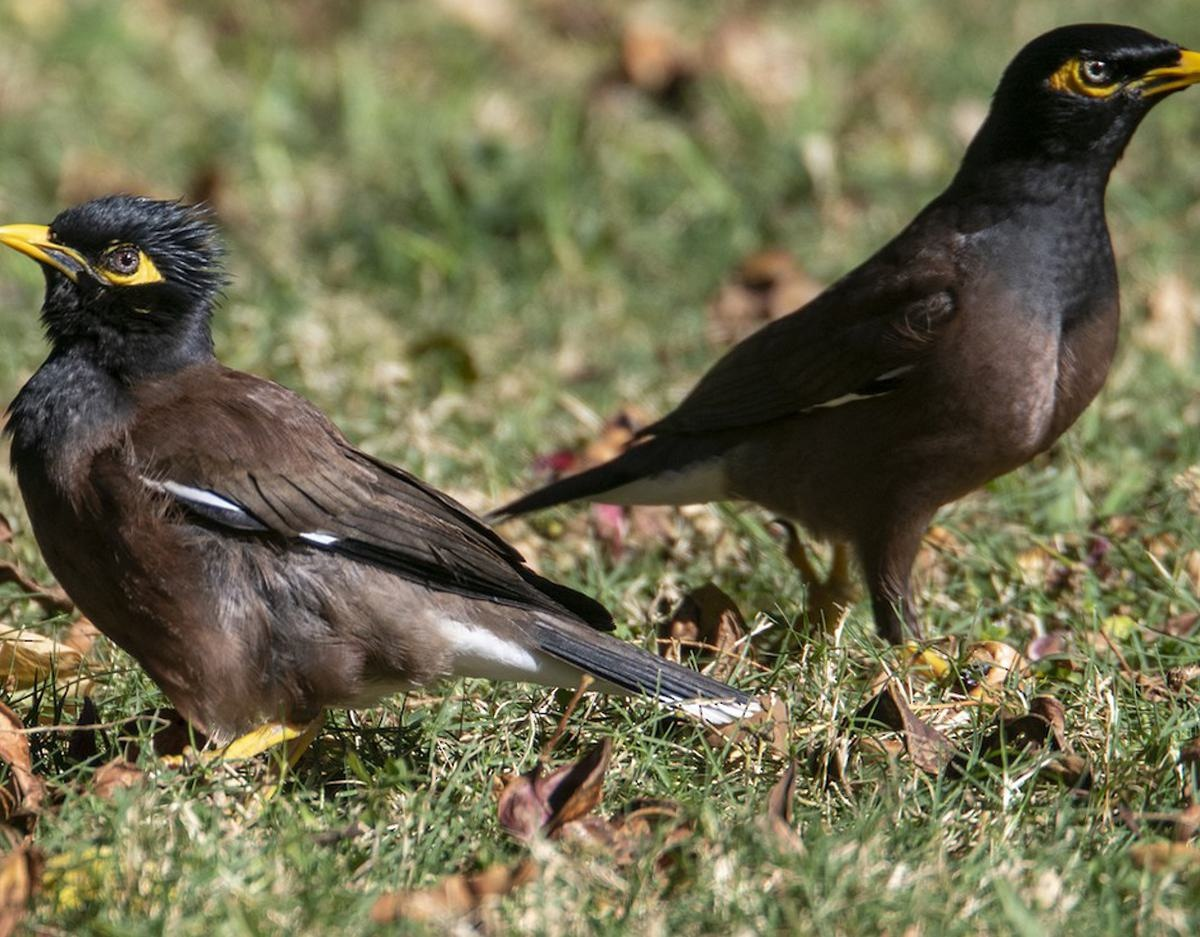myna: (1, 176, 669, 908), (547, 31, 1200, 604)
